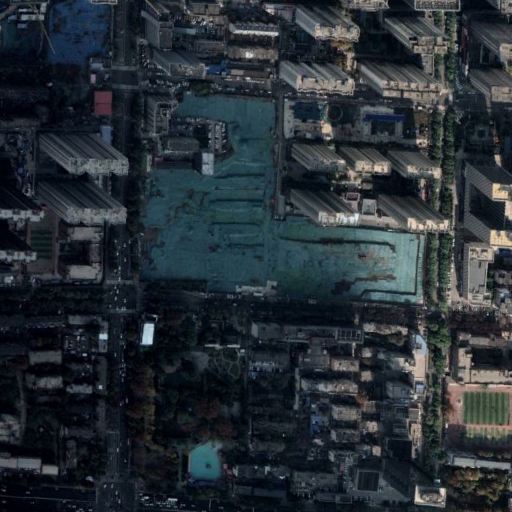cw: (141, 89, 424, 302), (44, 4, 114, 71)
